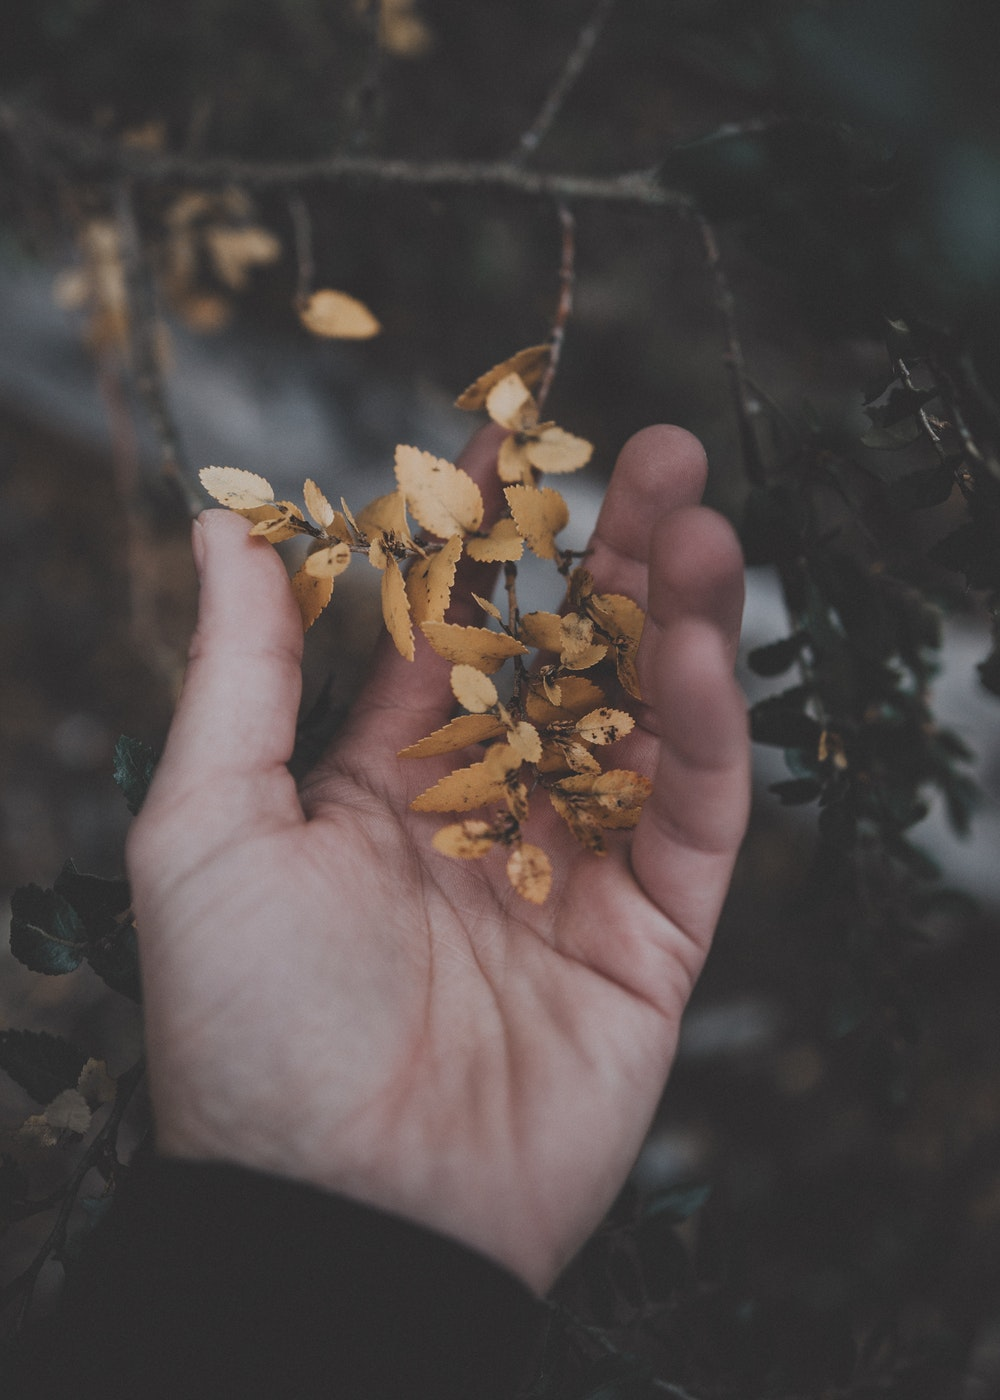palm: (229, 762, 680, 1241)
